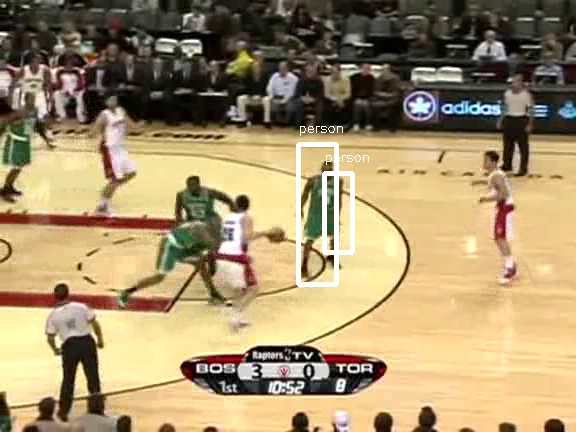person: (311, 165, 345, 246), (310, 165, 344, 246), (312, 165, 346, 246), (311, 164, 345, 245), (311, 166, 345, 247)
target_negative: (175, 81, 496, 421), (336, 113, 503, 352), (327, 6, 460, 105), (529, 100, 565, 401), (357, 387, 479, 405), (370, 153, 380, 219)
